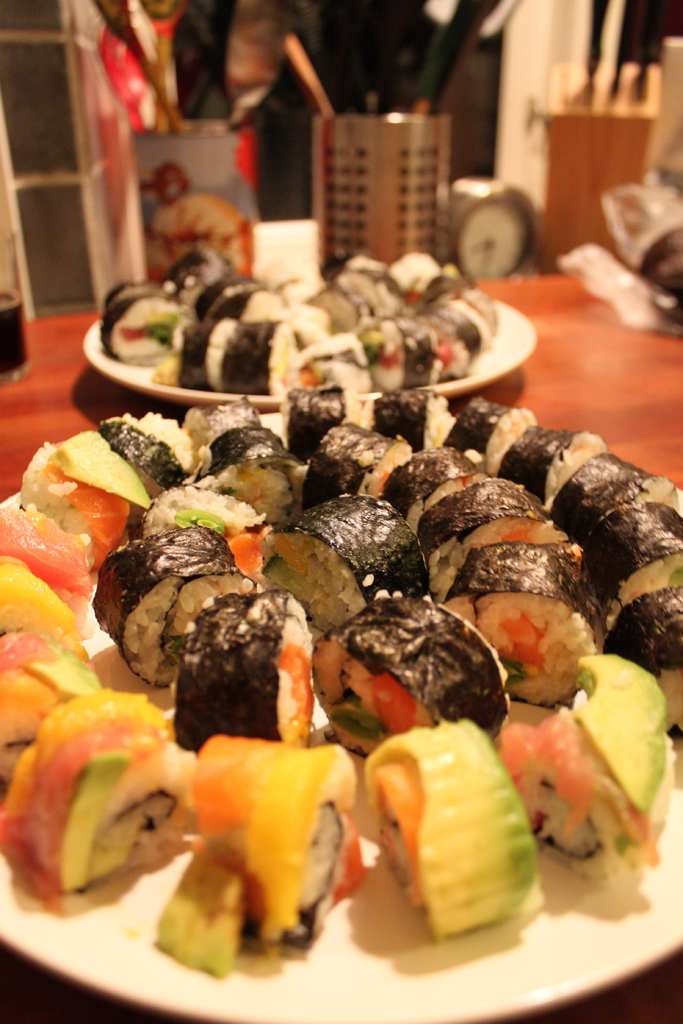sushi: (0, 385, 682, 977), (99, 252, 495, 391), (149, 750, 377, 977), (20, 701, 193, 940)
